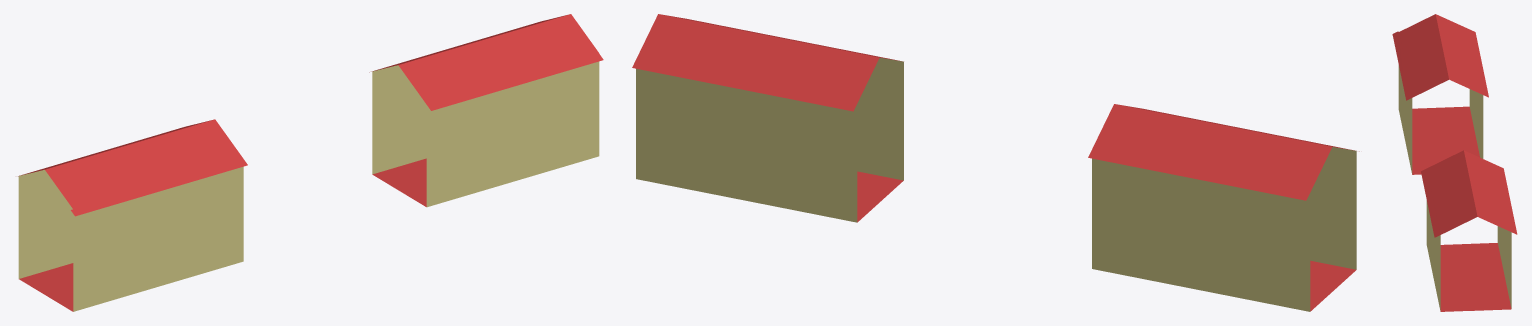
The picture shows the model from 3 angles, left to right: view 1: azimuth 30°, elevation 25°; view 2: azimuth 150°, elevation 25°; view 3: azimuth 270°, elevation 25°; orthographic projection. The views are drawn at different scales.
Bounding box in the file's own units: 61.17 × 15.7 × 13.
